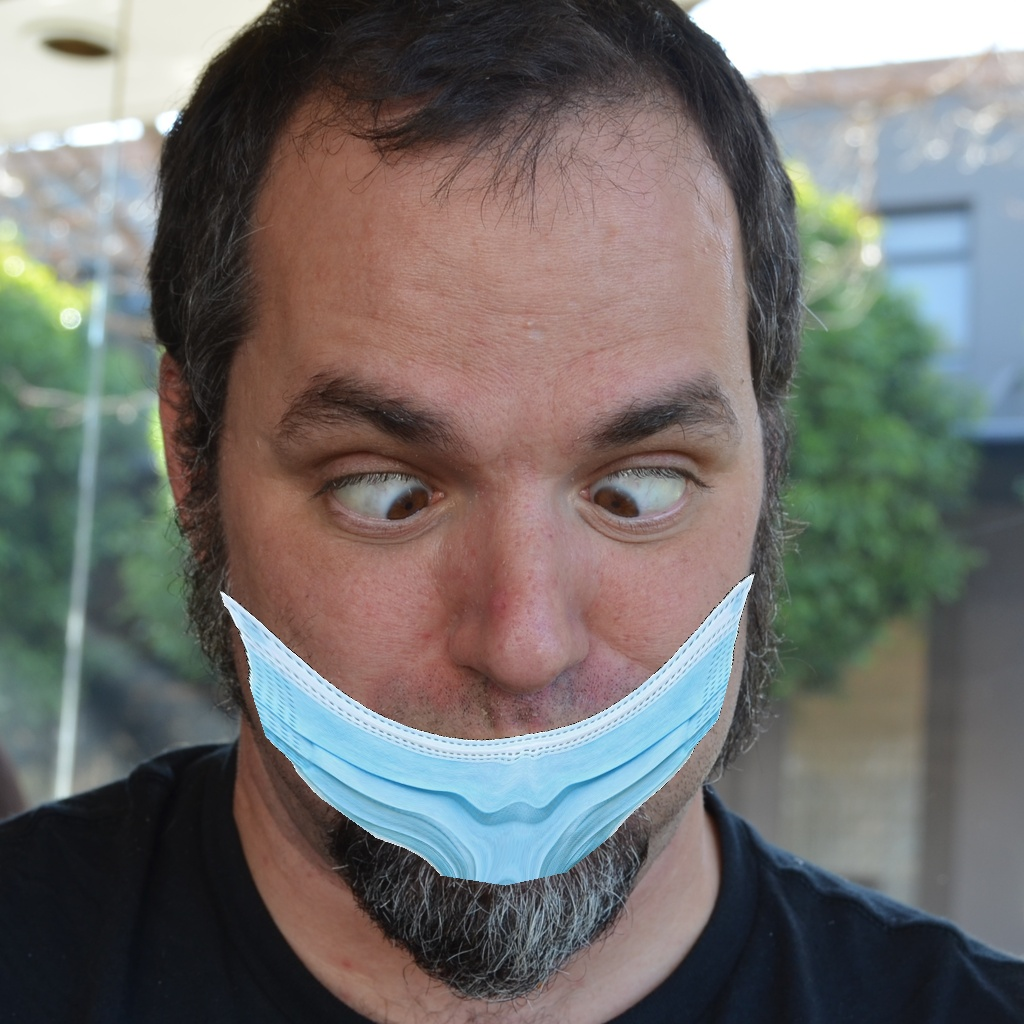mascarilla_mal_puesta: (247, 378, 774, 953)
